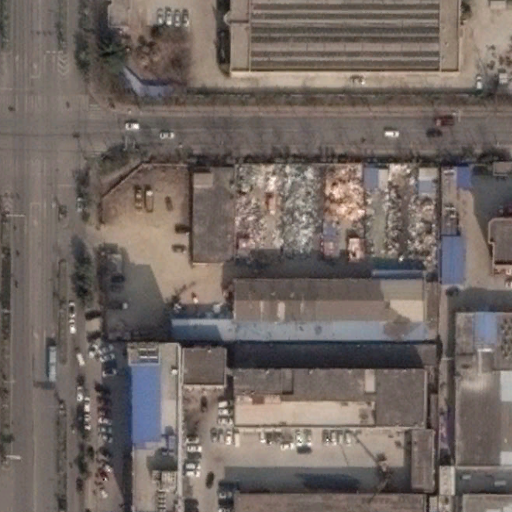msw: (237, 160, 436, 260)
